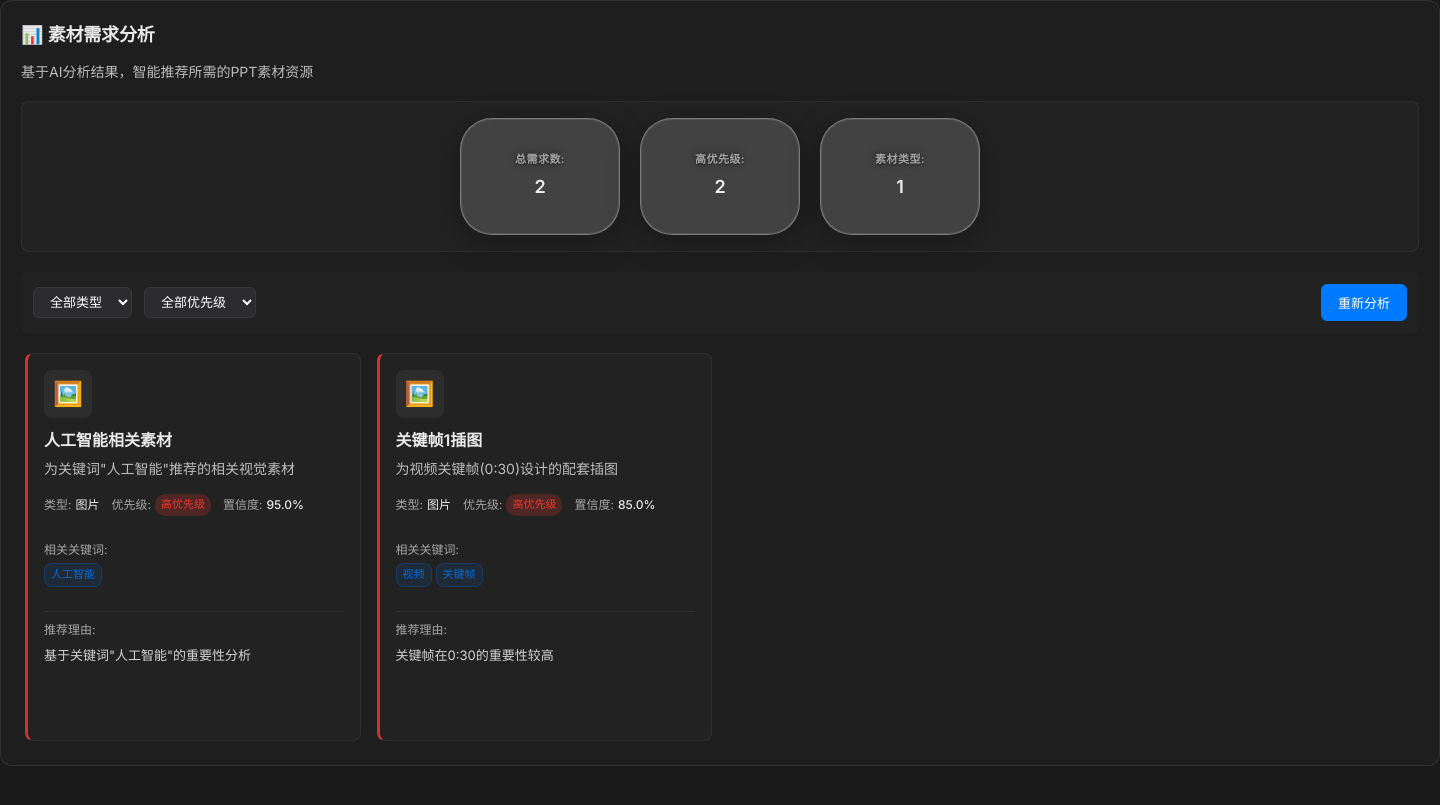
Test: MaterialRequirementAnalyzer.vue › 批量操作 › 应该显示选中需求面板
The width and height of the screenshot is (1440, 805).
What coordinates should you click on to do the following:
click the button with class "requirement-card" that starts with "人工智能相关素材"
I would click on:
 (68, 394)
Its box is [25,353,360,741].
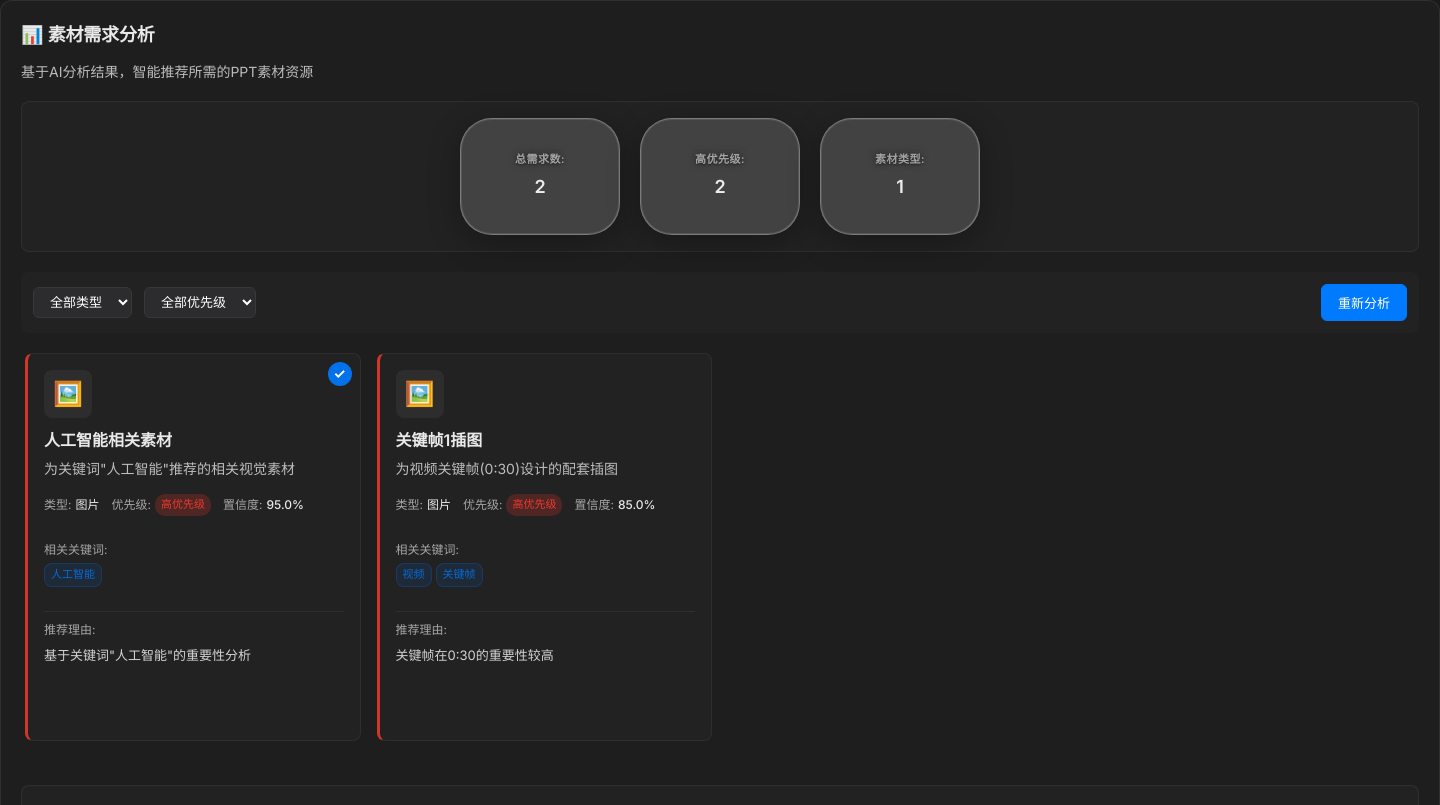
What coordinates should you click on to do the following:
click the button with class "requirement-card" that starts with "关键帧1插图"
I would click on:
 (420, 394)
Its box is [376,353,712,741].
(page scrolled)
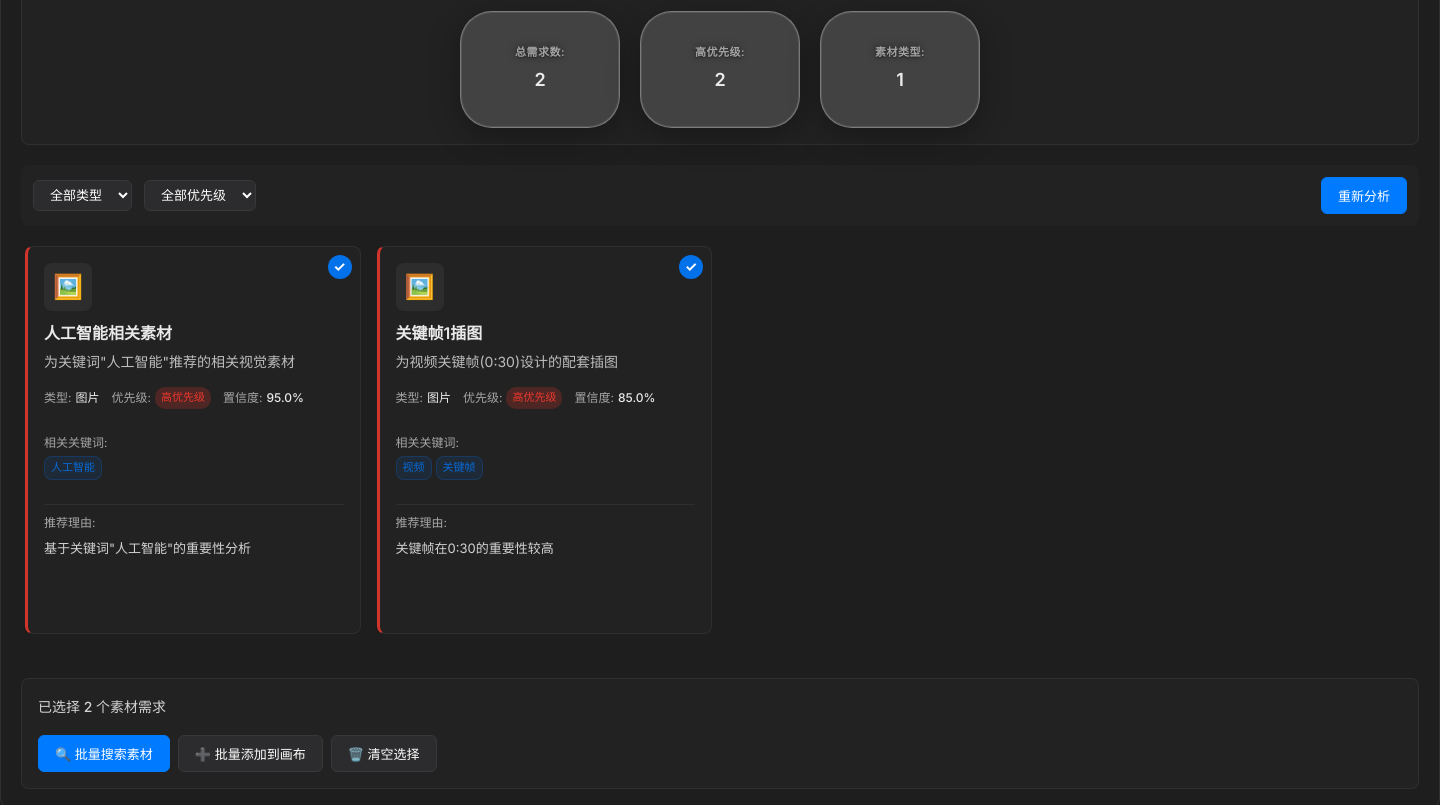
Result: the element with class "selected-requirements-panel" is shown at [21,678,1419,789]
Result: the text with class "summary-label" reads "已选择 2 个素材需求" at [38,698,166,715]
